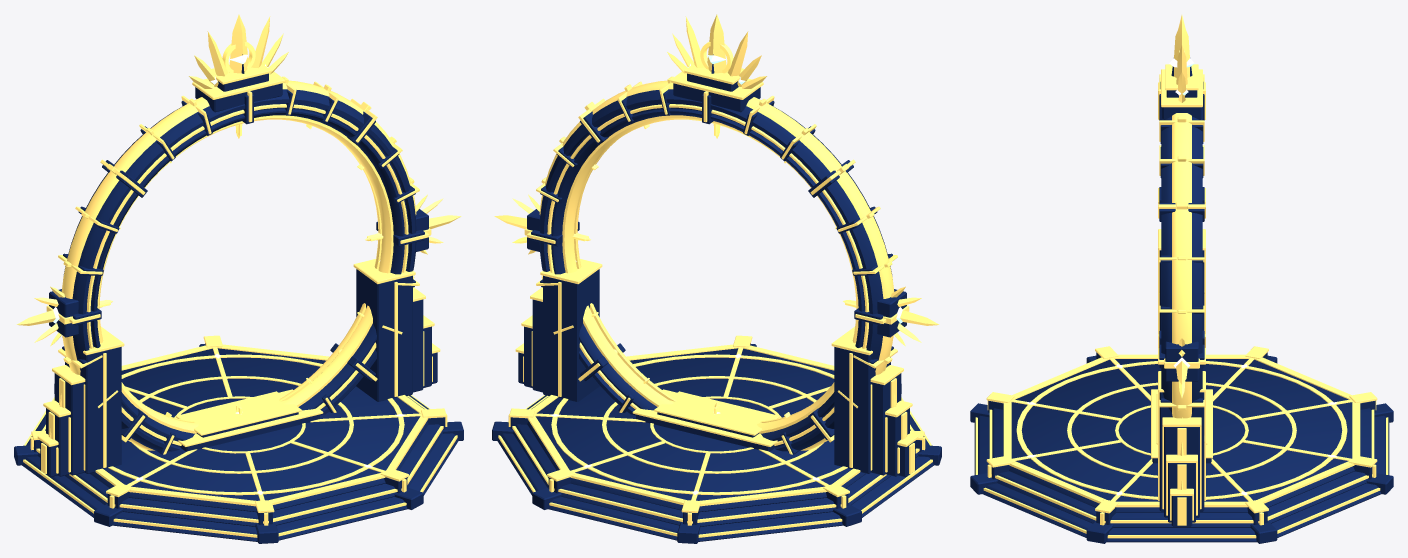
Rendered from earth_mirror_frame.glb.
The picture shows the model from 3 angles, left to right: view 1: azimuth 30°, elevation 25°; view 2: azimuth 150°, elevation 25°; view 3: azimuth 270°, elevation 25°; orthographic projection.
Parts seen in each view (by area): view 1: Pedestal_StoneBase, Pedestal_GoldInlay, ArchFrame_StoneCore, ArchFrame_GoldTrim, Buttress_L_Stone, Buttress_R_Stone, Finials_GoldCrown, ArchFrame_ChevronsStone, ArchFrame_ChevronsGold, Buttress_L_Gold, Finials_StoneMount, Buttress_R_Gold (+1 smaller); view 2: Pedestal_StoneBase, Pedestal_GoldInlay, ArchFrame_StoneCore, ArchFrame_GoldTrim, Buttress_L_Stone, Buttress_R_Stone, Finials_GoldCrown, ArchFrame_ChevronsStone, ArchFrame_ChevronsGold, Buttress_L_Gold, Finials_StoneMount, Buttress_R_Gold (+1 smaller); view 3: Pedestal_StoneBase, Pedestal_GoldInlay, ArchFrame_GoldTrim, ArchFrame_StoneCore, Buttress_R_Stone, Buttress_R_Gold, Finials_GoldCrown, ArchFrame_ChevronsGold, Finials_StoneMount, ArchFrame_ChevronsStone, Buttress_L_Gold.
Boxes of the visible parts, x1,y1,x2,y2 form: Pedestal_StoneBase: (14, 343, 463, 543); Pedestal_GoldInlay: (23, 335, 457, 537); ArchFrame_StoneCore: (63, 89, 416, 451); ArchFrame_GoldTrim: (61, 80, 416, 450); Buttress_L_Stone: (40, 347, 121, 476); Buttress_R_Stone: (356, 269, 437, 401); Finials_GoldCrown: (16, 14, 461, 346); ArchFrame_ChevronsStone: (62, 89, 424, 454); ArchFrame_ChevronsGold: (58, 76, 428, 454); Buttress_L_Gold: (37, 326, 124, 473); Finials_StoneMount: (49, 54, 428, 337); Buttress_R_Gold: (353, 259, 440, 396); Pedestal_StoneBase: (492, 343, 941, 543); Pedestal_GoldInlay: (498, 335, 932, 537); ArchFrame_StoneCore: (539, 89, 892, 451); ArchFrame_GoldTrim: (539, 80, 894, 450); Buttress_L_Stone: (834, 347, 915, 476); Buttress_R_Stone: (518, 269, 599, 401); Finials_GoldCrown: (494, 14, 939, 346); ArchFrame_ChevronsStone: (531, 89, 893, 454); ArchFrame_ChevronsGold: (527, 76, 897, 454); Buttress_L_Gold: (831, 326, 918, 473); Finials_StoneMount: (527, 54, 906, 337); Buttress_R_Gold: (515, 259, 602, 396); Pedestal_StoneBase: (970, 352, 1393, 543); Pedestal_GoldInlay: (975, 346, 1388, 538); ArchFrame_GoldTrim: (1172, 113, 1191, 418); ArchFrame_StoneCore: (1161, 107, 1202, 412); Buttress_R_Stone: (1159, 392, 1204, 526); Buttress_R_Gold: (1158, 371, 1205, 525); Finials_GoldCrown: (1161, 15, 1202, 384); ArchFrame_ChevronsGold: (1158, 74, 1205, 442); Finials_StoneMount: (1162, 66, 1201, 381); ArchFrame_ChevronsStone: (1159, 82, 1204, 402); Buttress_L_Gold: (1158, 229, 1205, 333).
Bounding box in the file's own units: 12 × 11.5 × 9.88.
